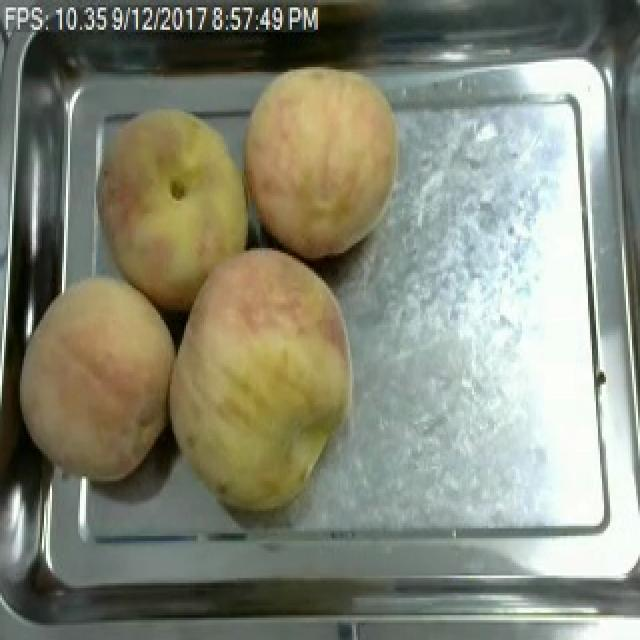Fruit: (164, 236, 364, 518), (8, 263, 184, 491), (84, 97, 258, 322), (234, 54, 414, 266)
